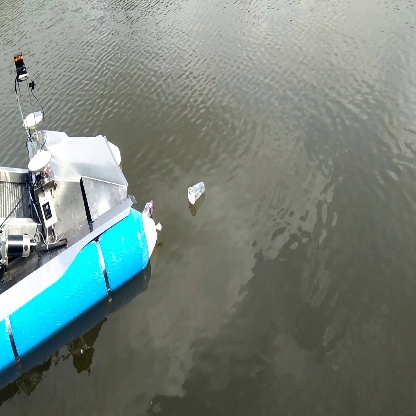bottle: (183, 176, 209, 208)
